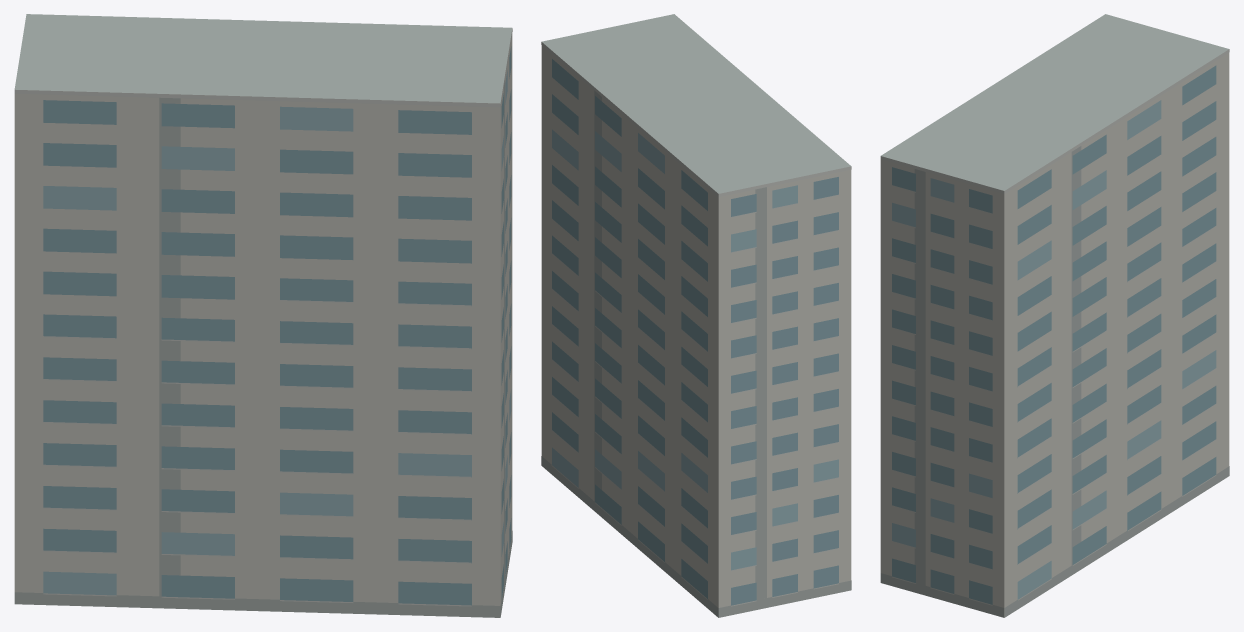
The model's file is residential-20c45124-4ed0-4f04-84ad-84704c9f54cb.glb.
The picture shows the model from 3 angles, left to right: view 1: azimuth 30°, elevation 25°; view 2: azimuth 150°, elevation 25°; view 3: azimuth 270°, elevation 25°; orthographic projection. The views are drawn at different scales.
Parts seen in each view (by area): view 1: residential-20c45124-4ed0-4f04-84ad-84704c9f54cb.tmp; view 2: residential-20c45124-4ed0-4f04-84ad-84704c9f54cb.tmp; view 3: residential-20c45124-4ed0-4f04-84ad-84704c9f54cb.tmp.
Part boxes in pixels (box(x1,y1,x2,y2)): residential-20c45124-4ed0-4f04-84ad-84704c9f54cb.tmp: box(14, 14, 512, 617); residential-20c45124-4ed0-4f04-84ad-84704c9f54cb.tmp: box(541, 14, 851, 617); residential-20c45124-4ed0-4f04-84ad-84704c9f54cb.tmp: box(880, 14, 1229, 617).
Bounding box in the file's own units: 28.46 × 32 × 23.71.
